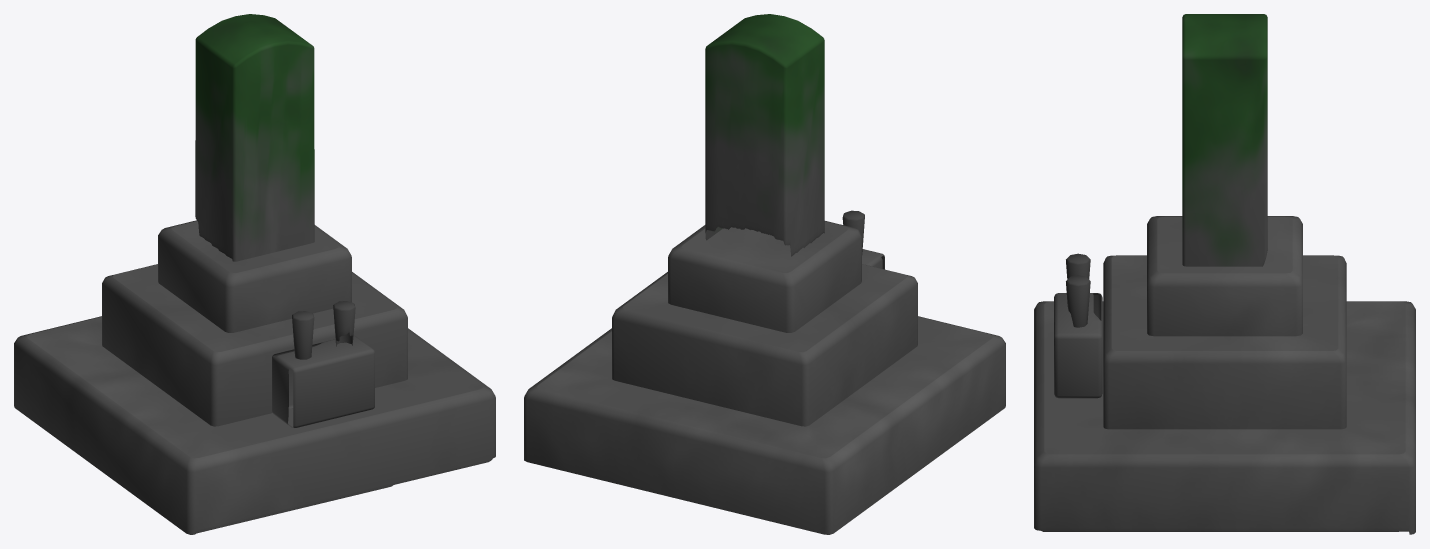
Rendered from LapideAfastada.fbx.
3 renders of one model, left to right at view 1: azimuth 30°, elevation 25°; view 2: azimuth 150°, elevation 25°; view 3: azimuth 270°, elevation 25°, orthographic. The views are drawn at different scales.
Parts seen in each view (by area): view 1: LapideAfastada_LOD0; view 2: LapideAfastada_LOD0; view 3: LapideAfastada_LOD0.
Boxes of the visible parts, bbox=[...] form: LapideAfastada_LOD0: bbox=[14, 14, 495, 534]; LapideAfastada_LOD0: bbox=[524, 14, 1005, 534]; LapideAfastada_LOD0: bbox=[1034, 14, 1415, 534].
Size of what is drawn, in the model's own units: 80.04 by 99.96 by 80.04.
